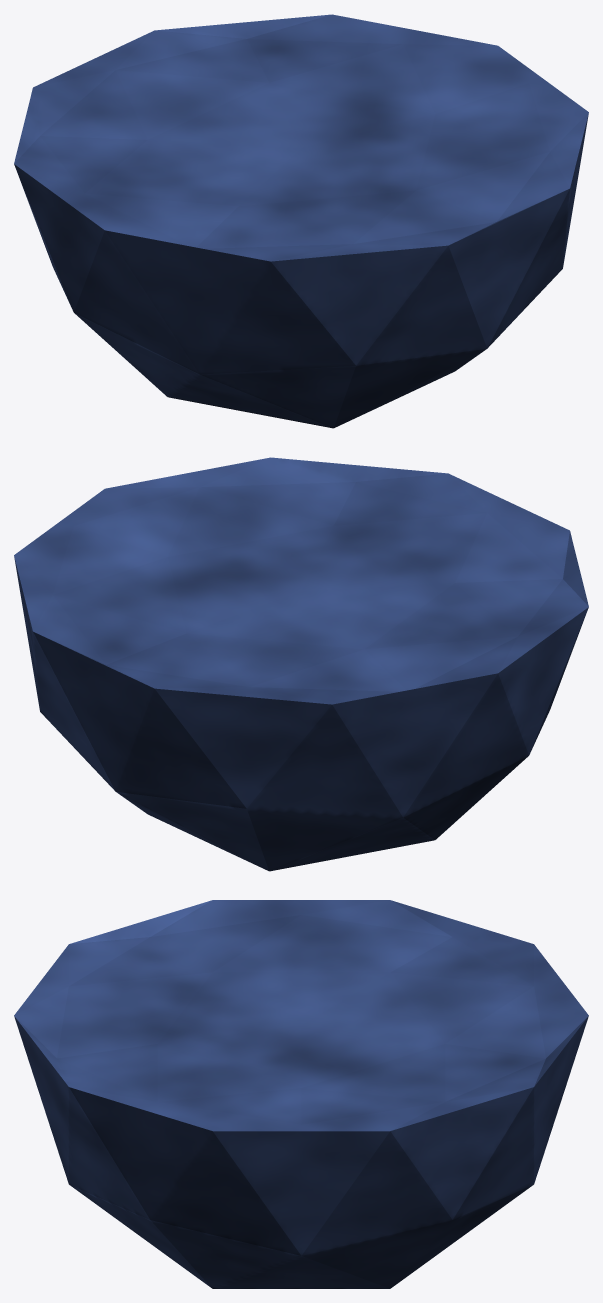
File: rock.dae
3 renders of one model, top to bottom at view 1: azimuth 30°, elevation 25°; view 2: azimuth 150°, elevation 25°; view 3: azimuth 270°, elevation 25°, orthographic. The views are drawn at different scales.
Visible parts, largest first — view 1: Icosphere; view 2: Icosphere; view 3: Icosphere.
Part boxes in pixels (<box>): Icosphere: <box>14,14,588,428</box>; Icosphere: <box>14,457,588,871</box>; Icosphere: <box>14,900,588,1288</box>.
Size of the model in its own units: 0.3206 by 0.3371 by 0.1685.
1 material, 1 textured.
